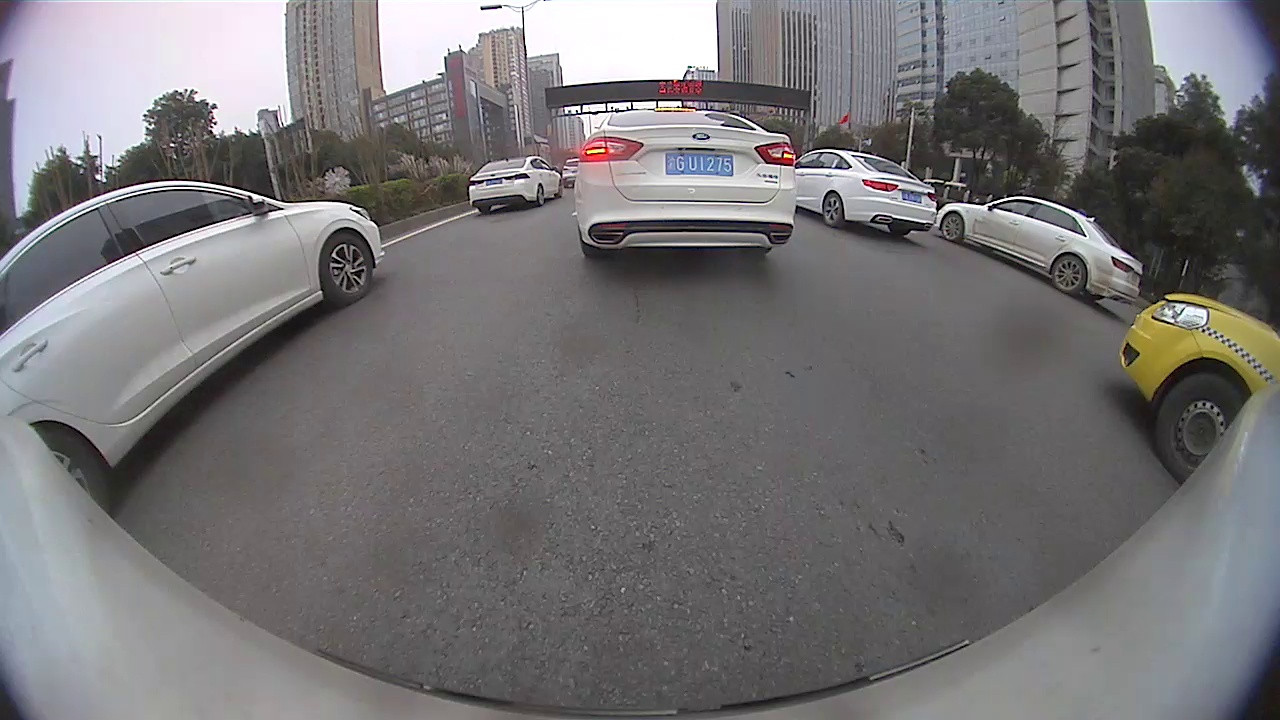car: (1, 181, 385, 513), (574, 106, 797, 259), (1118, 294, 1278, 484), (935, 196, 1142, 303), (796, 149, 937, 236), (467, 154, 562, 215)
front: (1149, 372, 1246, 482), (317, 226, 378, 306), (939, 210, 964, 242), (535, 181, 546, 207)
rear: (32, 426, 115, 512), (1050, 251, 1089, 296), (821, 190, 845, 227)
